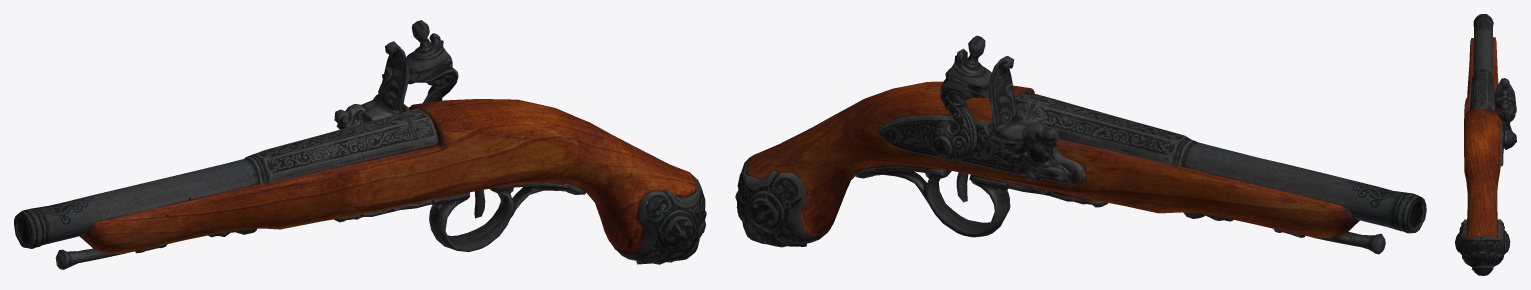
File: flintlock.glb
3 views of the same model, side by side, from view 1: azimuth 30°, elevation 25°; view 2: azimuth 150°, elevation 25°; view 3: azimuth 270°, elevation 25° (orthographic). The views are drawn at different scales.
Parts seen in each view (by area): view 1: Object_2; view 2: Object_2; view 3: Object_2.
Part boxes in pixels (bbox=[...]): Object_2: bbox=[14, 20, 706, 269]; Object_2: bbox=[735, 35, 1426, 254]; Object_2: bbox=[1455, 14, 1516, 275].
Bounding box in the file's own units: 0.3616 × 0.1422 × 0.0569.
Materials: 1 (1 with a texture image).
